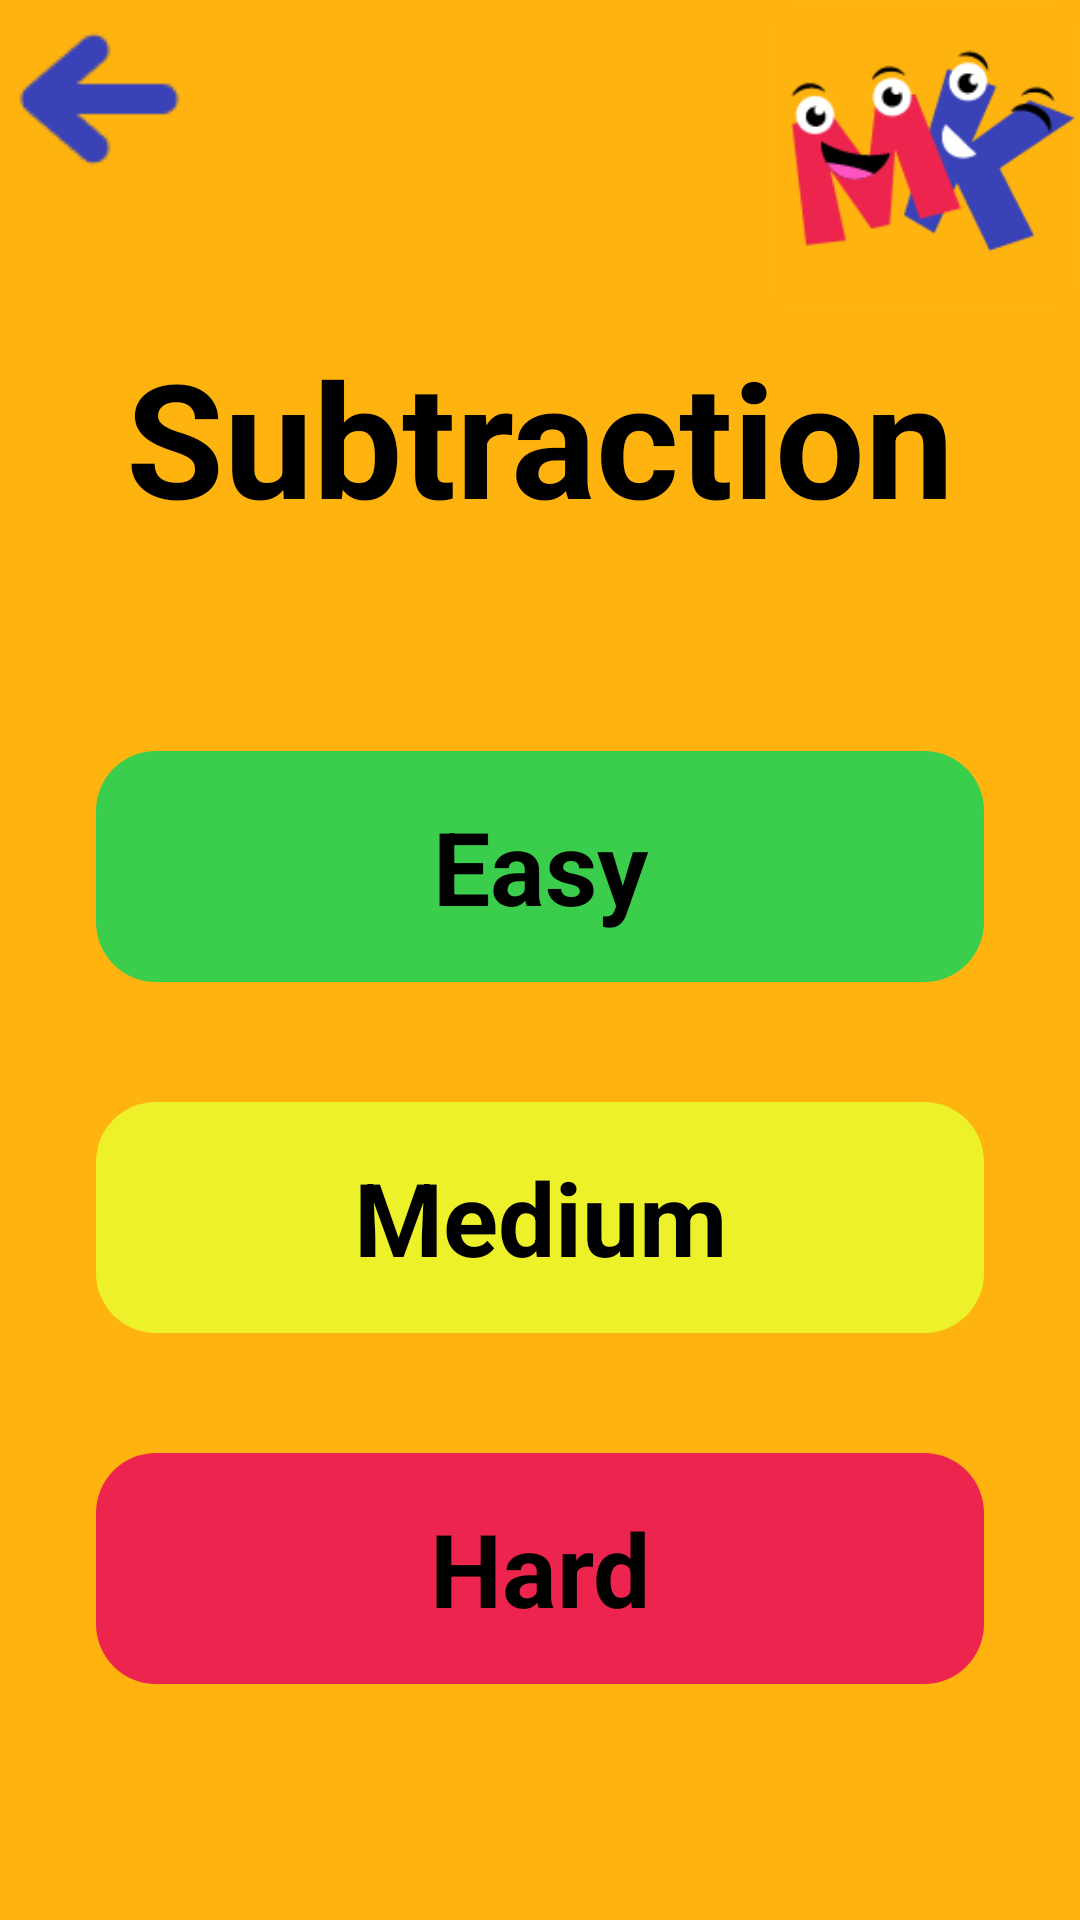

Locate icon controls on the screen. Image size 1080px×1920px, boxes as (x1, y1, x2, y2).
arrow: (19, 33, 180, 165)
